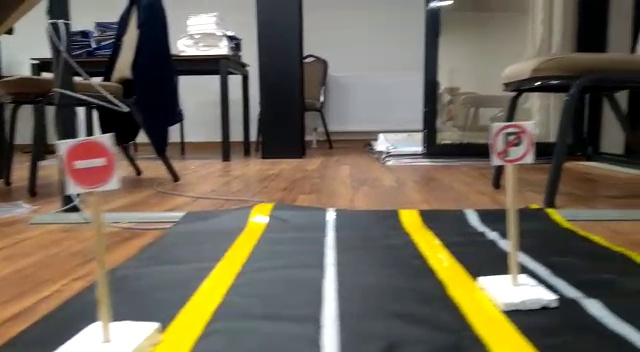girisi_olmayan_yol: (64, 140, 117, 188)
park_yapilmaz: (489, 123, 534, 161)
